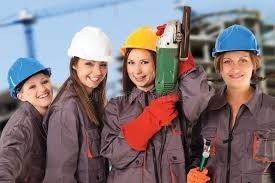helmet: (5, 54, 54, 102), (64, 24, 116, 63), (211, 22, 263, 59), (118, 25, 158, 59)
person with partial safety: (192, 22, 274, 182), (105, 25, 178, 181), (44, 26, 113, 182), (1, 53, 56, 182)
